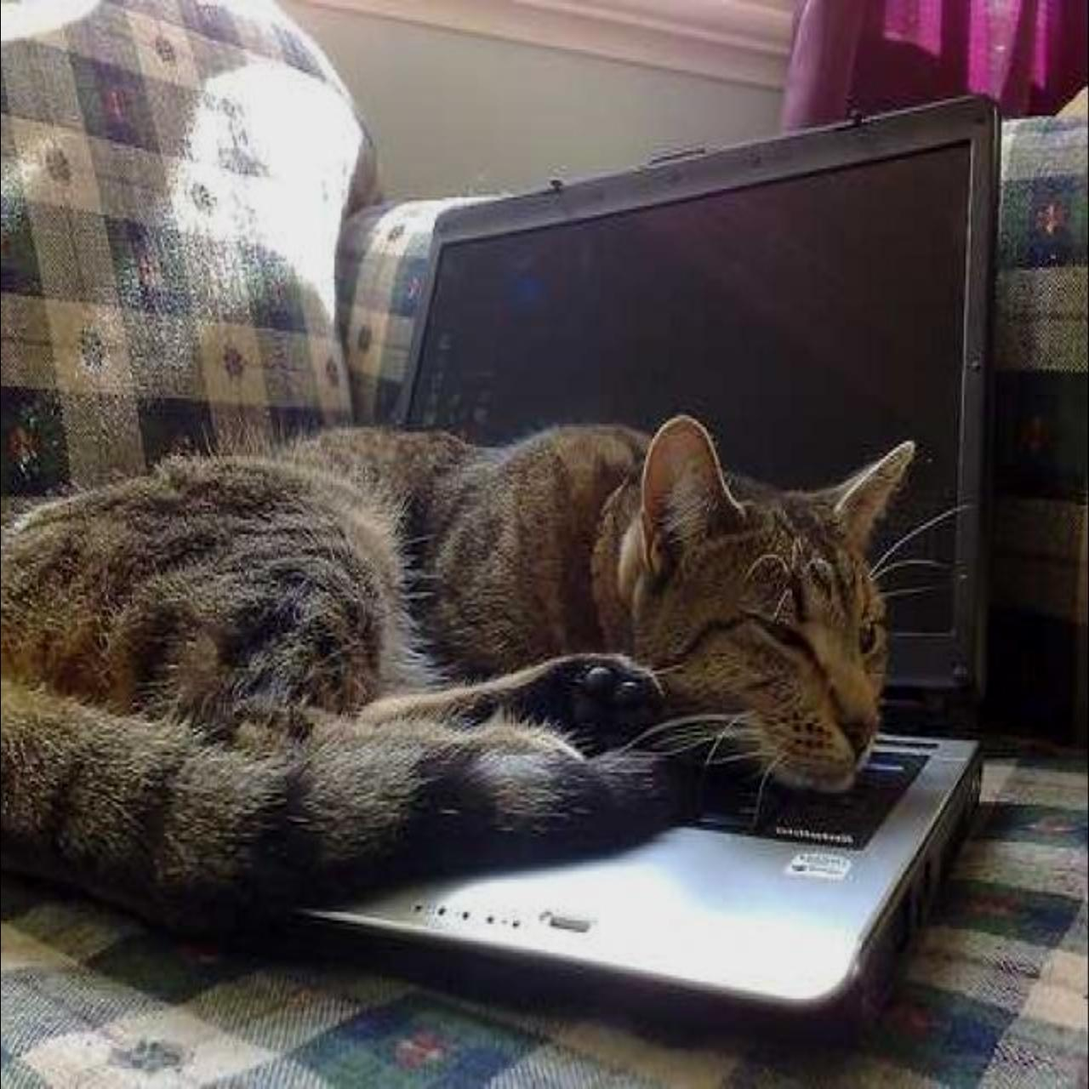laptop: (197, 99, 1014, 980)
